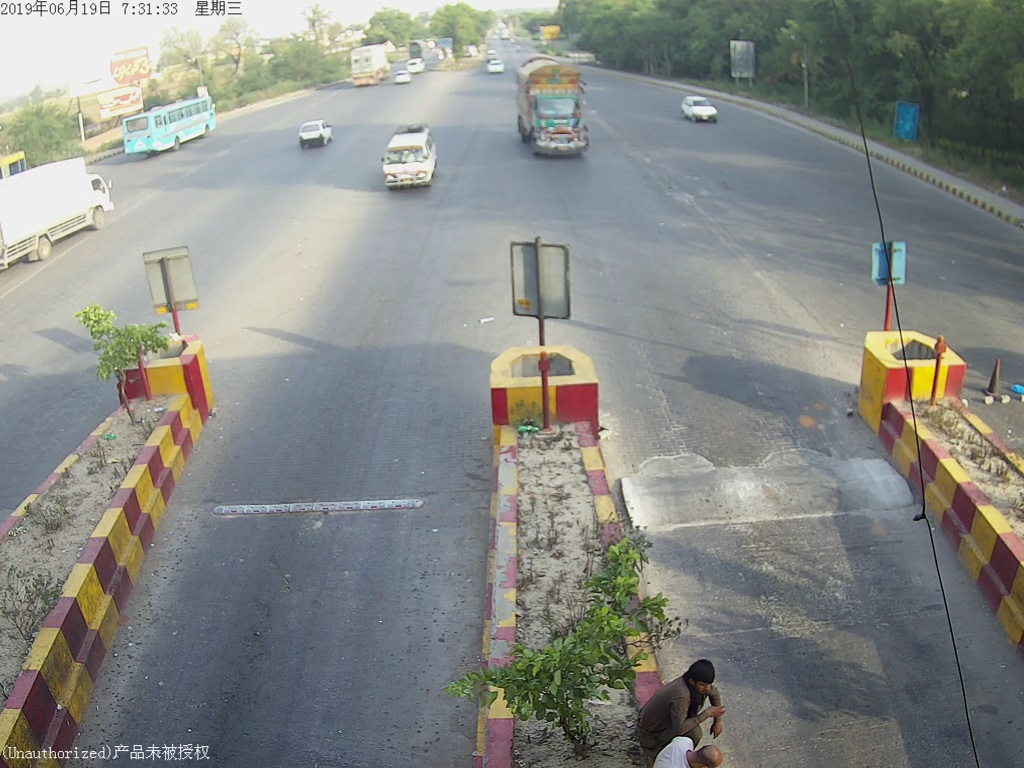Cat-2: (375, 125, 446, 195)
Cat-4: (514, 57, 598, 159)
